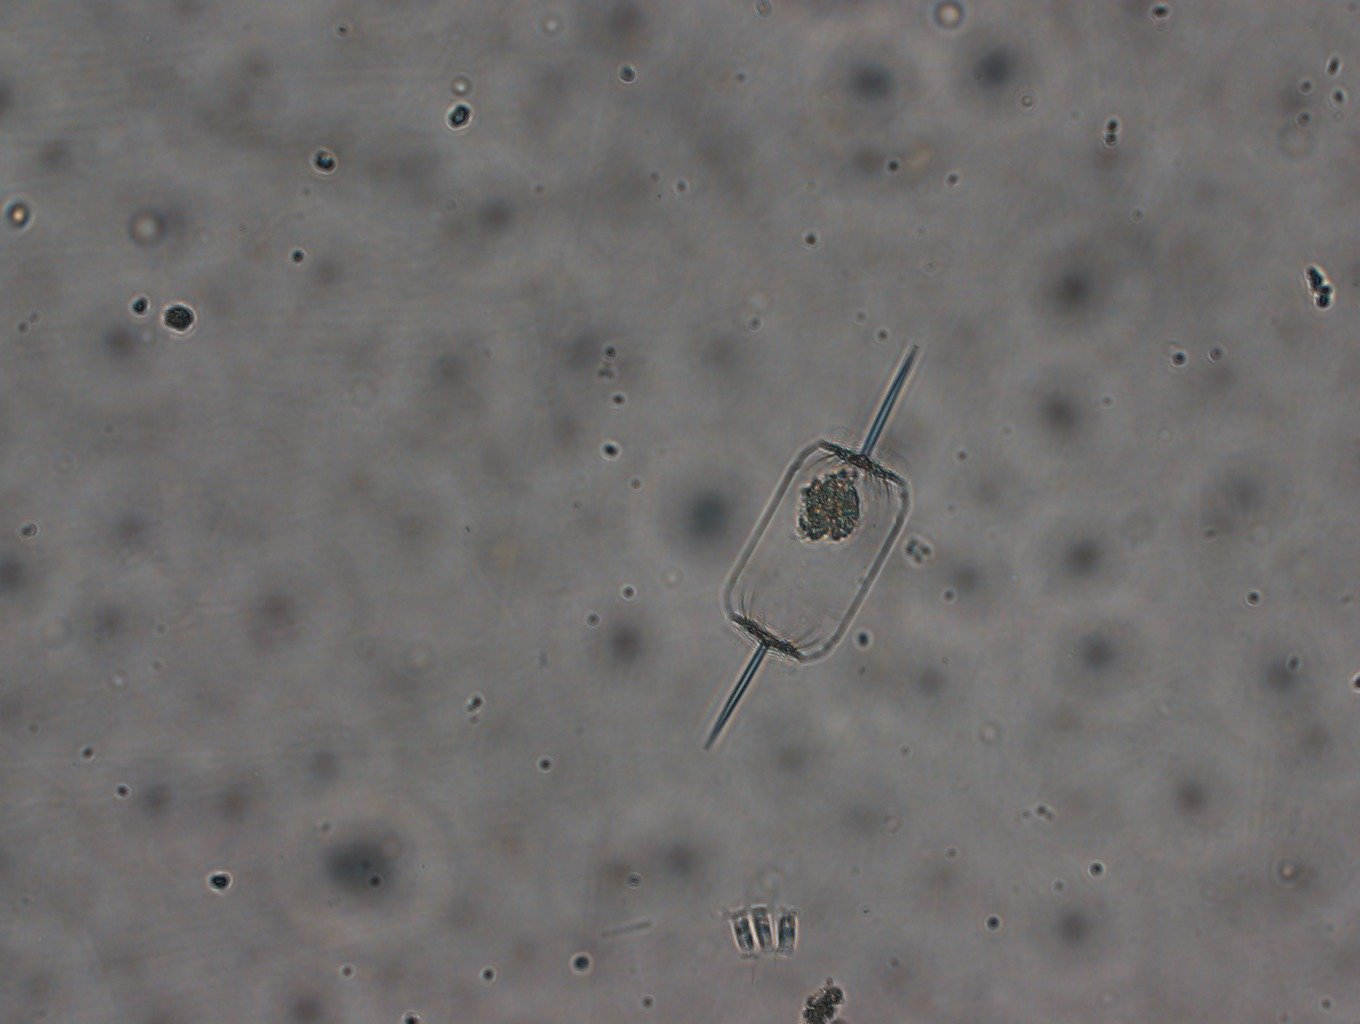ditylum: (697, 344, 924, 758)
